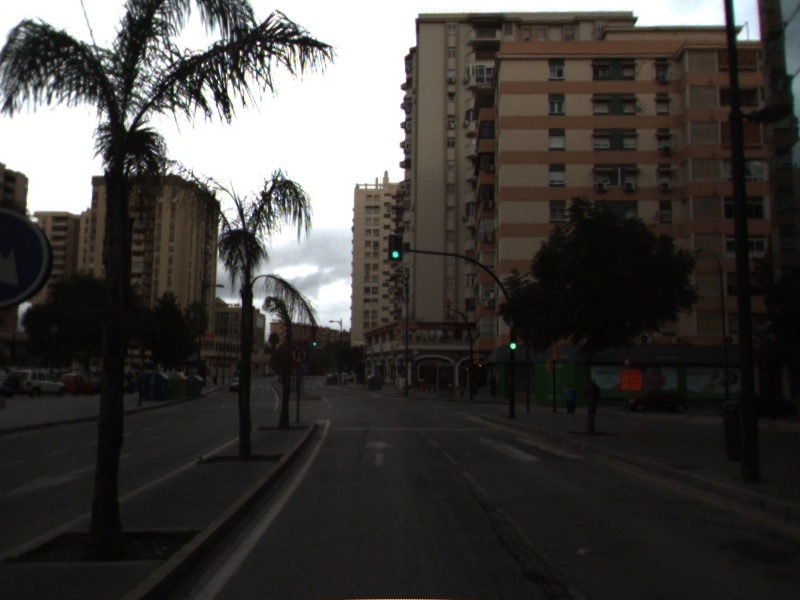STRAIGHT: (362, 435, 396, 468)
